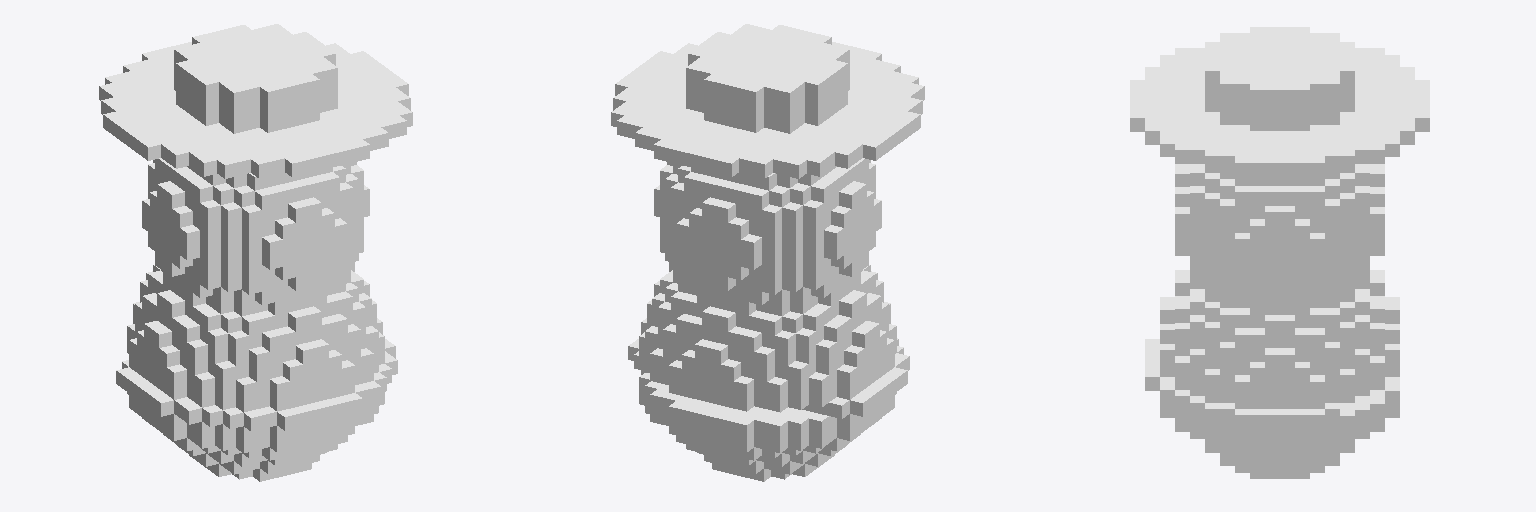
Rendered from body3.obj.
The picture shows the model from 3 angles: view 1: azimuth 30°, elevation 25°; view 2: azimuth 150°, elevation 25°; view 3: azimuth 270°, elevation 25°; orthographic projection.
Parts seen in each view (by area): view 1: object 1; view 2: object 1; view 3: object 1.
Boxes of the visible parts, box(x1,y1,x2,y2) form: object 1: box(99, 24, 412, 481); object 1: box(611, 24, 924, 481); object 1: box(1130, 27, 1429, 478).
Bounding box in the file's own units: 2 × 2.9 × 2.